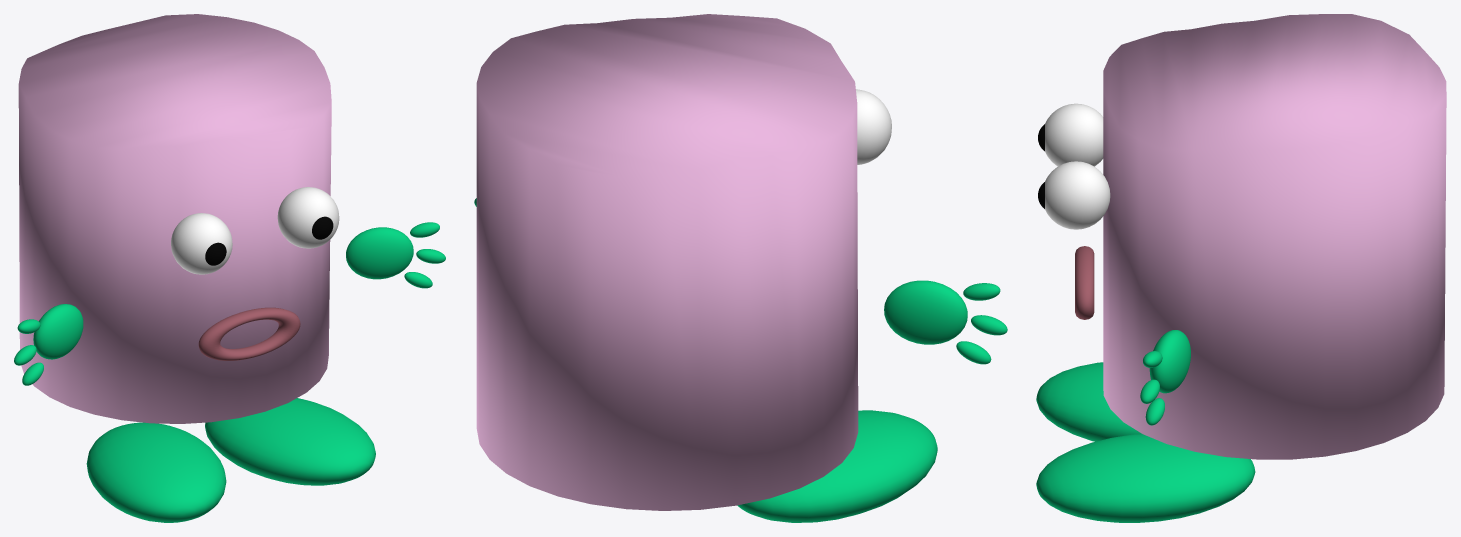
The model's file is spielerbeta.fbx.
The picture shows the model from 3 angles, left to right: view 1: azimuth 30°, elevation 25°; view 2: azimuth 150°, elevation 25°; view 3: azimuth 270°, elevation 25°; orthographic projection. The views are drawn at different scales.
Parts seen in each view (by area): view 1: Torus; view 2: Torus; view 3: Torus.
Boxes of the visible parts, bbox=[...] form: Torus: bbox=[14, 14, 445, 522]; Torus: bbox=[474, 14, 1007, 522]; Torus: bbox=[1036, 14, 1446, 522].
Size of the model in its own units: 3.22 by 2.58 by 2.4.
